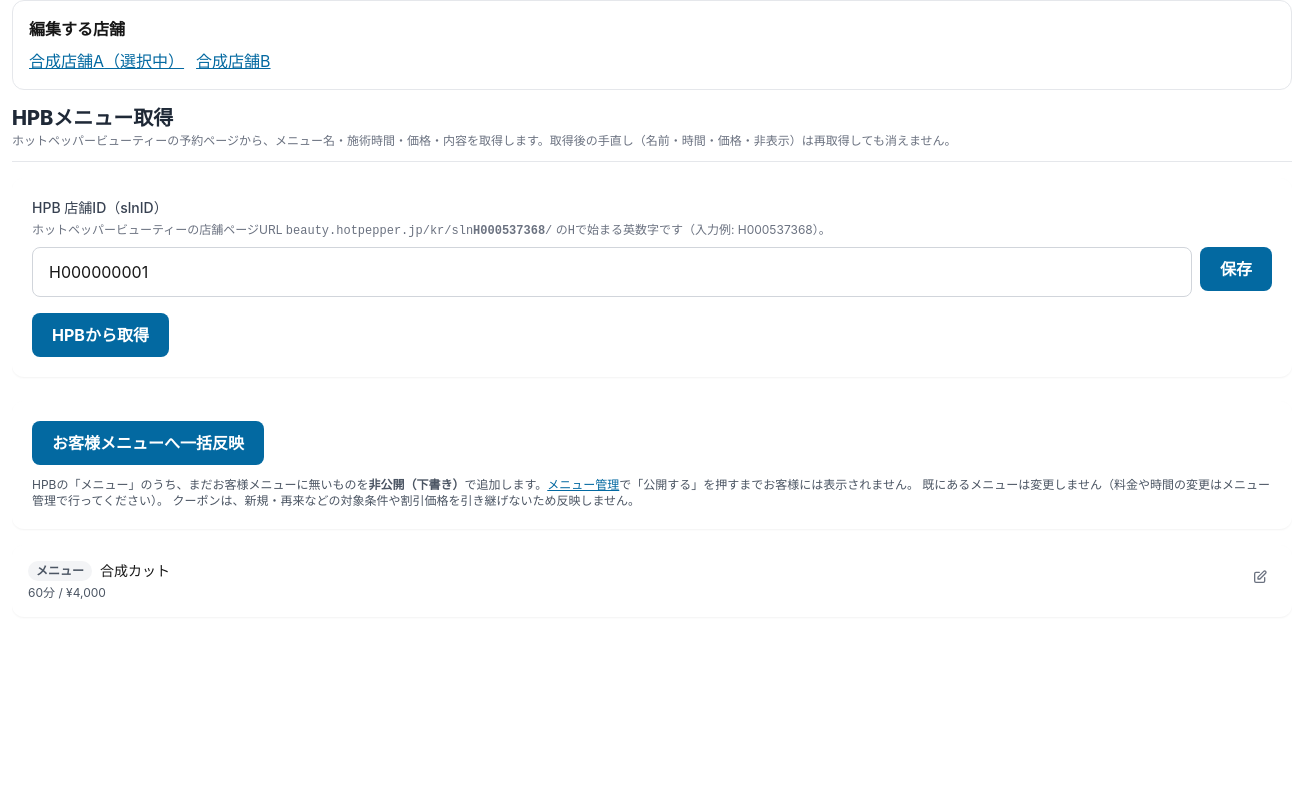
Test: 新規メニューを反映したら、非公開であることと公開の手順を画面に残す
Expected: the text "合成カット" is shown, [100,561,170,581]
Click the button "お客様メニューへ一括反映".
click(148, 443)  # box [32,421,264,465]
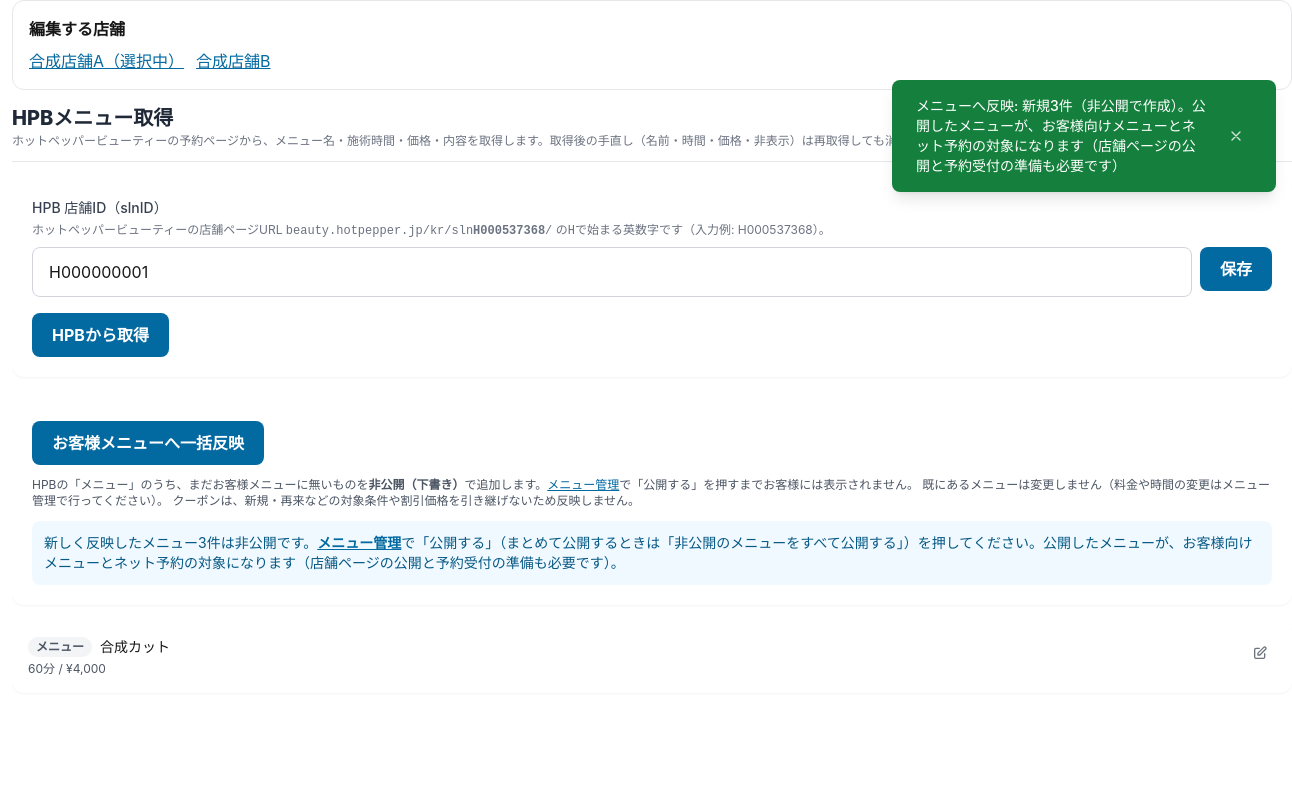
Now the text "メニューへ反映: 新規3件" shows "公開したメニューが、お客様向けメニューとネット予約の対象になります（店舗ページの公開と予約受付の準備も必要です）", box [916,97,1206,174]
Now the text "新しく反映したメニュー3件は非公開です" shows "非公開のメニューをすべて公開する", box [401,534,1043,551]
Now the text "新しく反映したメニュー3件は非公開です" shows "店舗ページの公開と予約受付の準備も必要です", box [44,534,1253,571]
